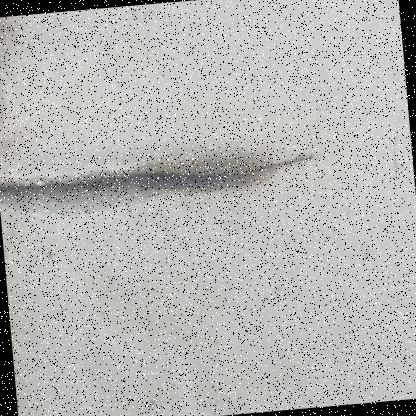Crack: (0, 113, 349, 280)
